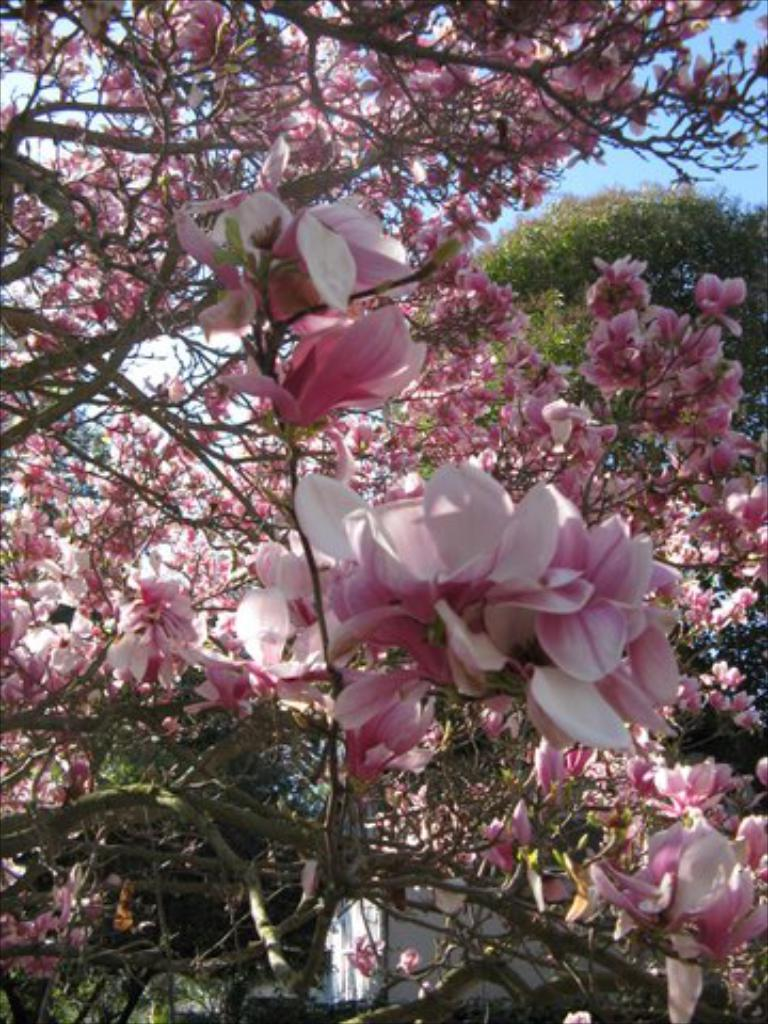Tree: (382, 178, 768, 719)
